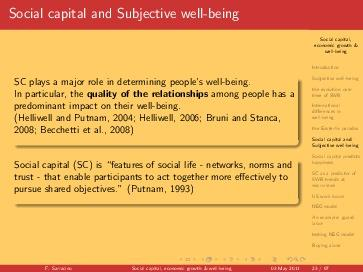paragraph: (6, 66, 307, 225)
title: (6, 3, 246, 32)
